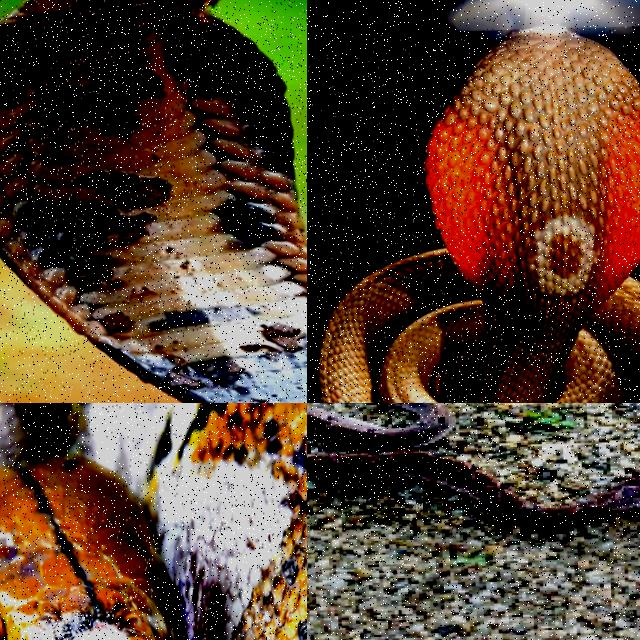Calloselasma rhodostoma: (307, 403, 639, 523)
Malayopython reticulatus: (0, 403, 306, 639)
Naja kaouthia: (316, 29, 639, 402)
Ophiophagus hannah: (0, 0, 306, 402)
